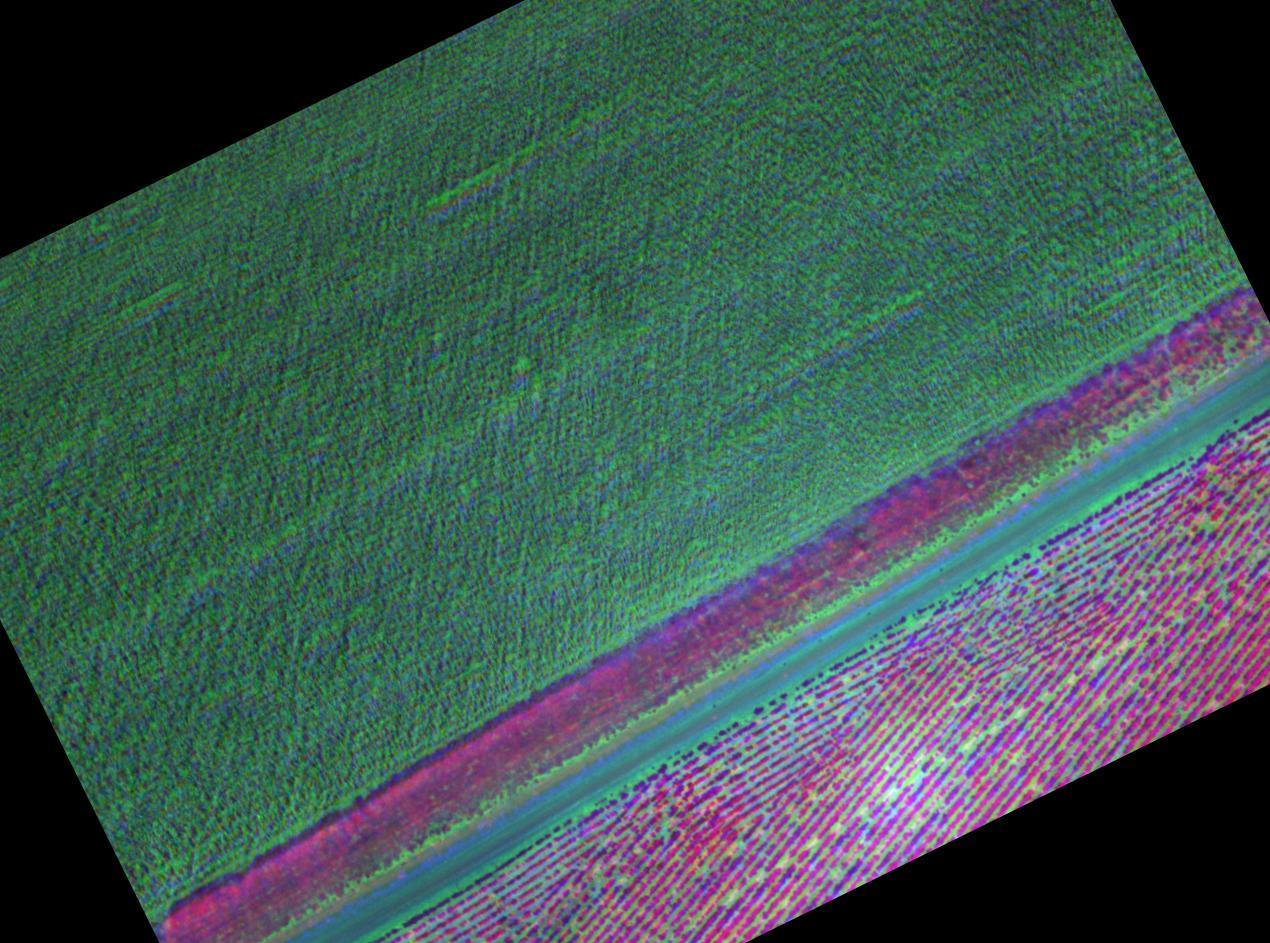dc: (1095, 658, 1103, 666), (810, 839, 818, 847), (889, 788, 896, 797), (834, 870, 841, 879), (966, 740, 974, 747), (782, 857, 789, 865), (729, 893, 736, 900), (1018, 709, 1024, 717), (758, 873, 764, 879)
